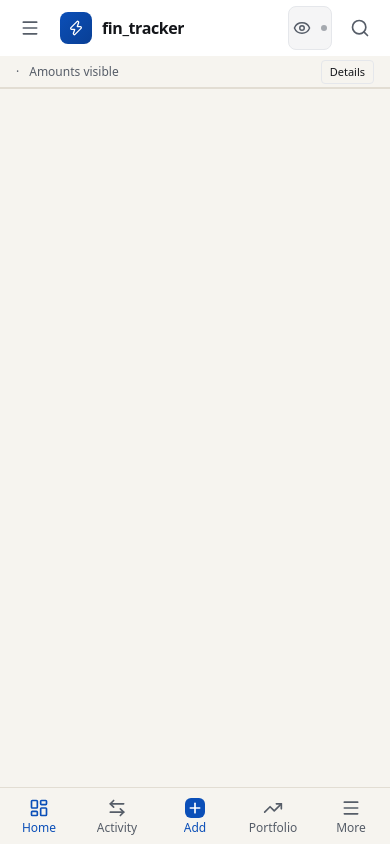
Test: M72 mobile navigation drawer › keeps one Search launcher in the mobile app bar and none in the drawer
The width and height of the screenshot is (390, 844).
Expected: the number of buttons named "Open command palette" is 1, [338,6,382,50]
Click the button with test id "nav-drawer-toggle" at (30, 28), box [8,6,52,50]
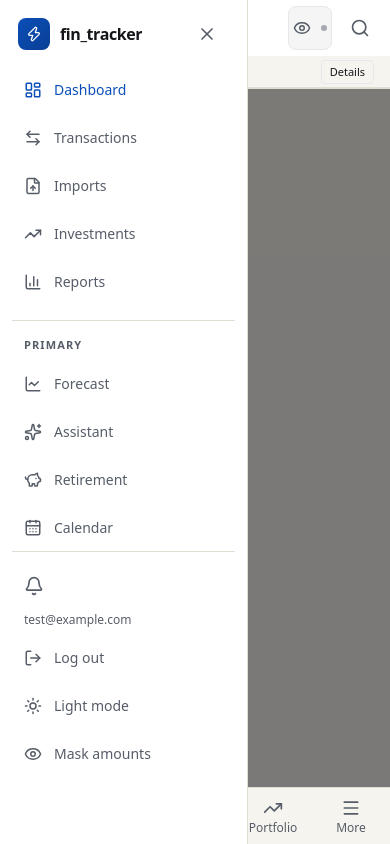
Expected: the button with test id "nav-drawer-toggle" is expanded, [8,6,52,50]
